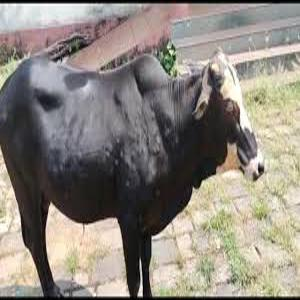lumpy skin diesease: (0, 47, 265, 298)
